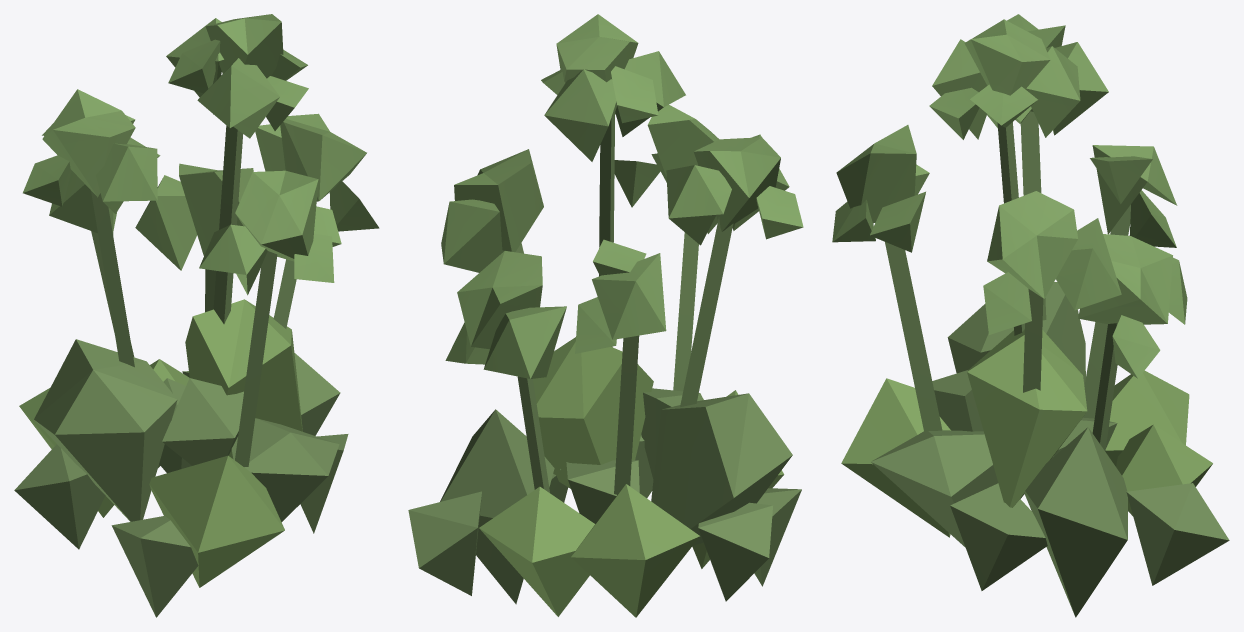
Rendered from elven_SM_Env_Flowers_11.gltf.
3 views of the same model, side by side, from view 1: azimuth 30°, elevation 25°; view 2: azimuth 150°, elevation 25°; view 3: azimuth 270°, elevation 25° (orthographic).
Parts seen in each view (by area): view 1: SM_Env_Flowers_11; view 2: SM_Env_Flowers_11; view 3: SM_Env_Flowers_11.
Boxes of the visible parts, x1=… form: SM_Env_Flowers_11: x1=14, y1=14, x2=379, y2=617; SM_Env_Flowers_11: x1=408, y1=14, x2=803, y2=617; SM_Env_Flowers_11: x1=832, y1=14, x2=1229, y2=617.
Size of the model in its own units: 0.6391 by 1 by 0.6399.
Materials: 1 (1 with a texture image).
